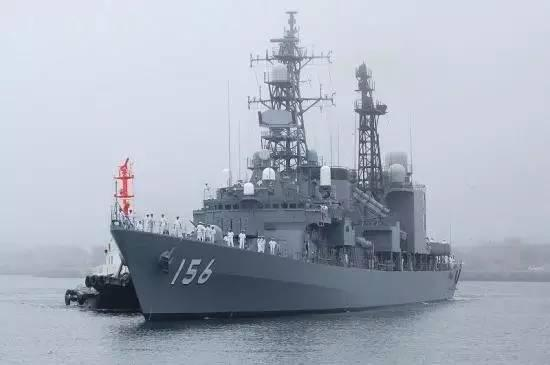otherboat: (68, 154, 164, 318)
warship: (109, 8, 466, 326)
